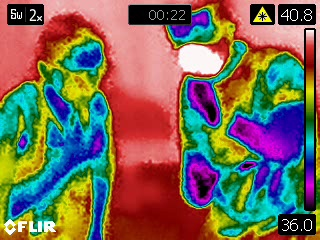human: (164, 3, 320, 240), (1, 10, 118, 240)
